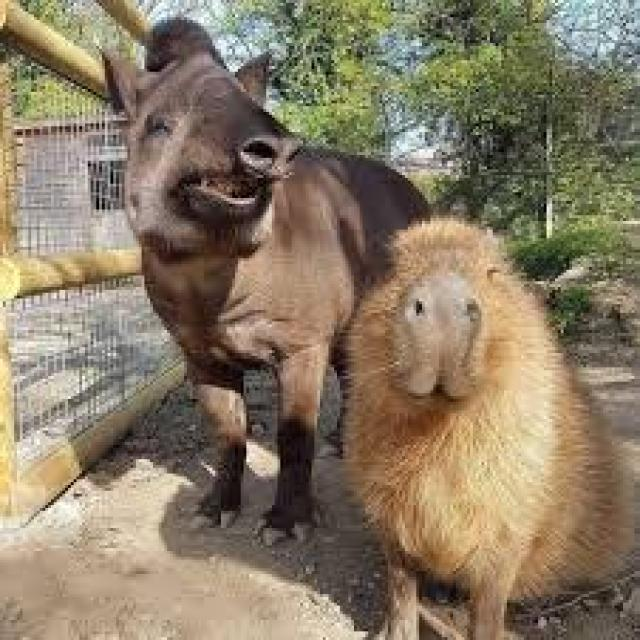capy: (345, 217, 635, 640)
